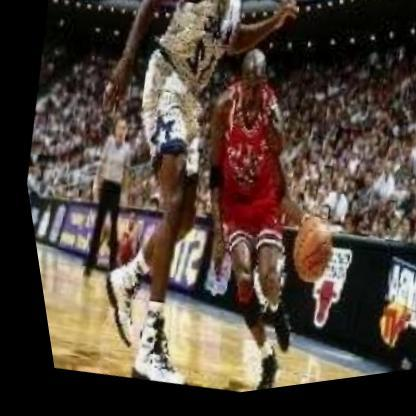basketball: (271, 212, 337, 296)
